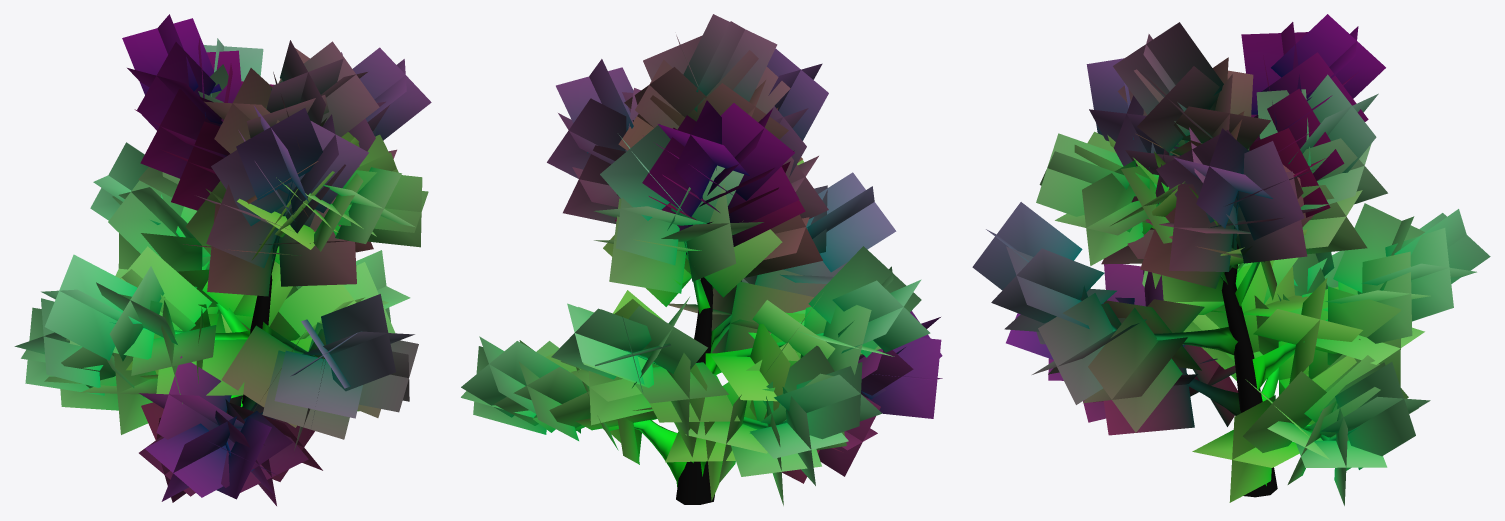
File: URP_P11_Tree_7_LOD_3.fbx
3 renders of one model, left to right at view 1: azimuth 30°, elevation 25°; view 2: azimuth 150°, elevation 25°; view 3: azimuth 270°, elevation 25°, orthographic. The views are drawn at different scales.
Visible parts, largest first — view 1: Tree_7_LOD_3; view 2: Tree_7_LOD_3; view 3: Tree_7_LOD_3.
Boxes of the visible parts, x1=… form: Tree_7_LOD_3: x1=14, y1=14, x2=431, y2=505; Tree_7_LOD_3: x1=461, y1=14, x2=942, y2=505; Tree_7_LOD_3: x1=972, y1=14, x2=1490, y2=505.
Bounding box in the file's own units: 597 × 641 × 645.
